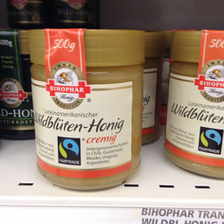honey: (25, 29, 148, 186), (165, 27, 224, 186)
